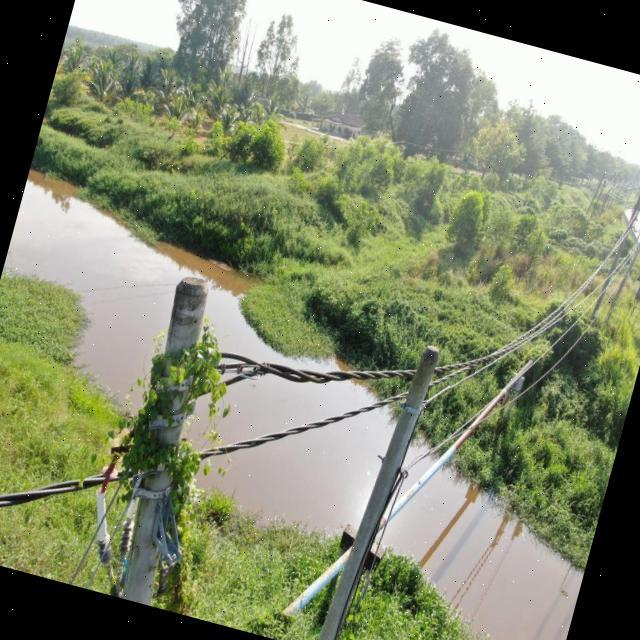critical vegetation: (64, 293, 274, 616)
